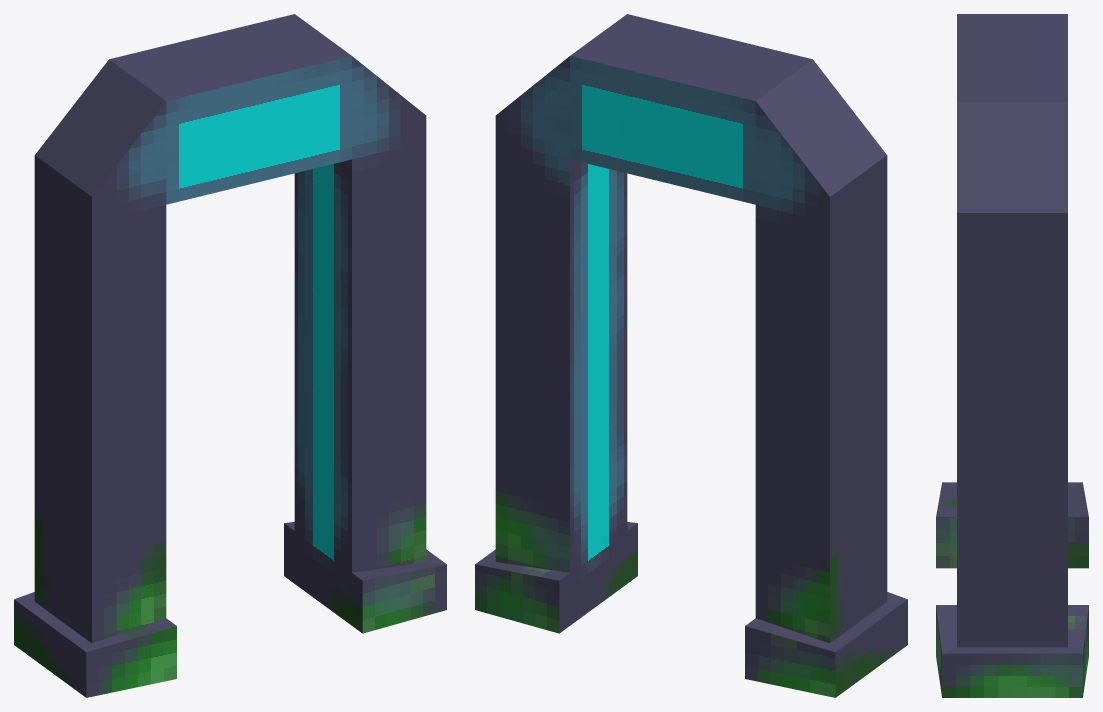
The model's file is door.gltf.
3 renders of one model, left to right at view 1: azimuth 30°, elevation 25°; view 2: azimuth 150°, elevation 25°; view 3: azimuth 270°, elevation 25°, orthographic. The views are drawn at different scales.
Parts seen in each view (by area): view 1: mesh; view 2: mesh; view 3: mesh.
Boxes of the visible parts, x1,y1,x2,y2 form: mesh: [14, 14, 446, 697]; mesh: [475, 14, 907, 697]; mesh: [936, 14, 1088, 697].
Bounding box in the file's own units: 1.82 × 2.75 × 0.6875.
1 material, 1 textured.
